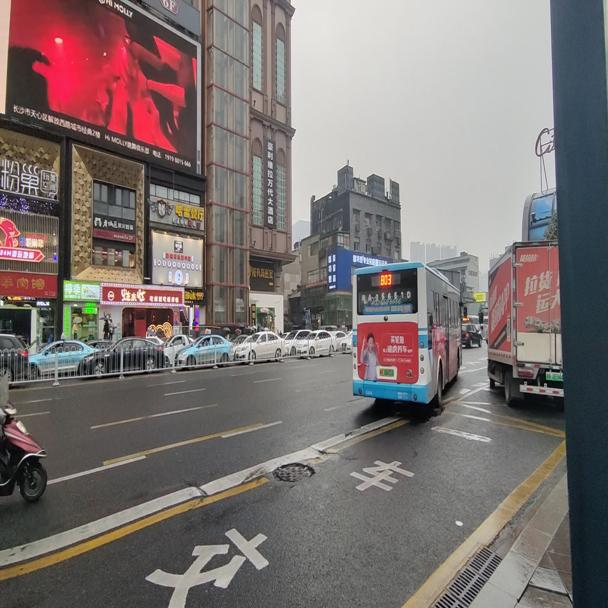bus: (351, 260, 467, 411)
screen: (380, 273, 391, 285)
